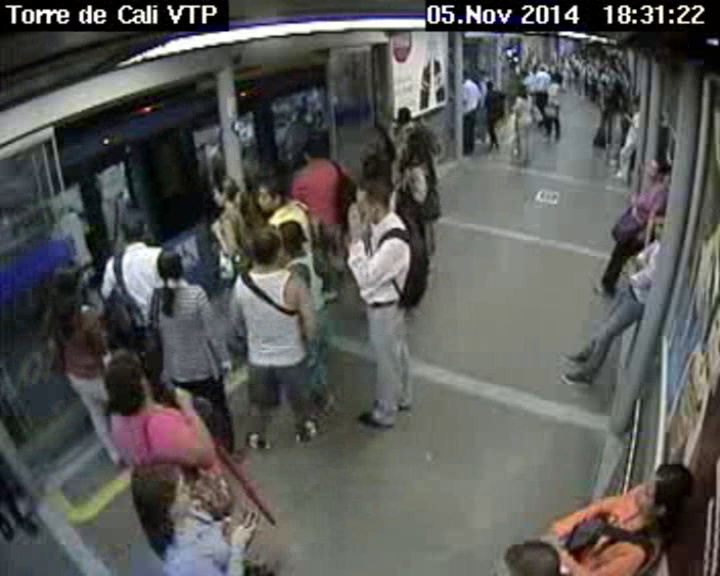person: (126, 451, 200, 540), (631, 459, 694, 536), (96, 357, 161, 415), (495, 535, 566, 576), (45, 262, 89, 315), (202, 170, 251, 215), (346, 176, 393, 222), (252, 179, 297, 222), (248, 229, 289, 272), (275, 216, 315, 255), (153, 248, 189, 291), (117, 211, 150, 244), (406, 136, 432, 169), (640, 154, 668, 184), (300, 134, 329, 161), (653, 208, 676, 242), (370, 125, 392, 159), (398, 105, 414, 125), (630, 98, 643, 112), (484, 80, 497, 93), (459, 69, 471, 83), (515, 85, 526, 99), (521, 65, 530, 79), (551, 73, 561, 85), (538, 64, 545, 72)
